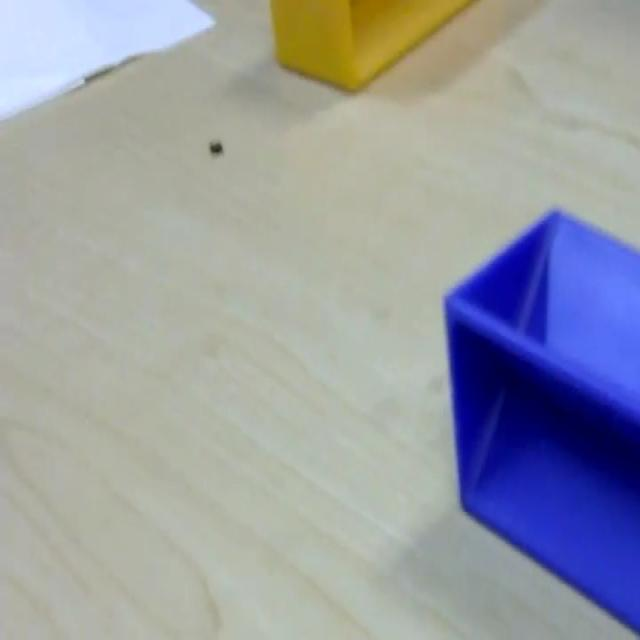blue_block: (441, 204, 639, 632)
yellow_block: (268, 0, 475, 92)
